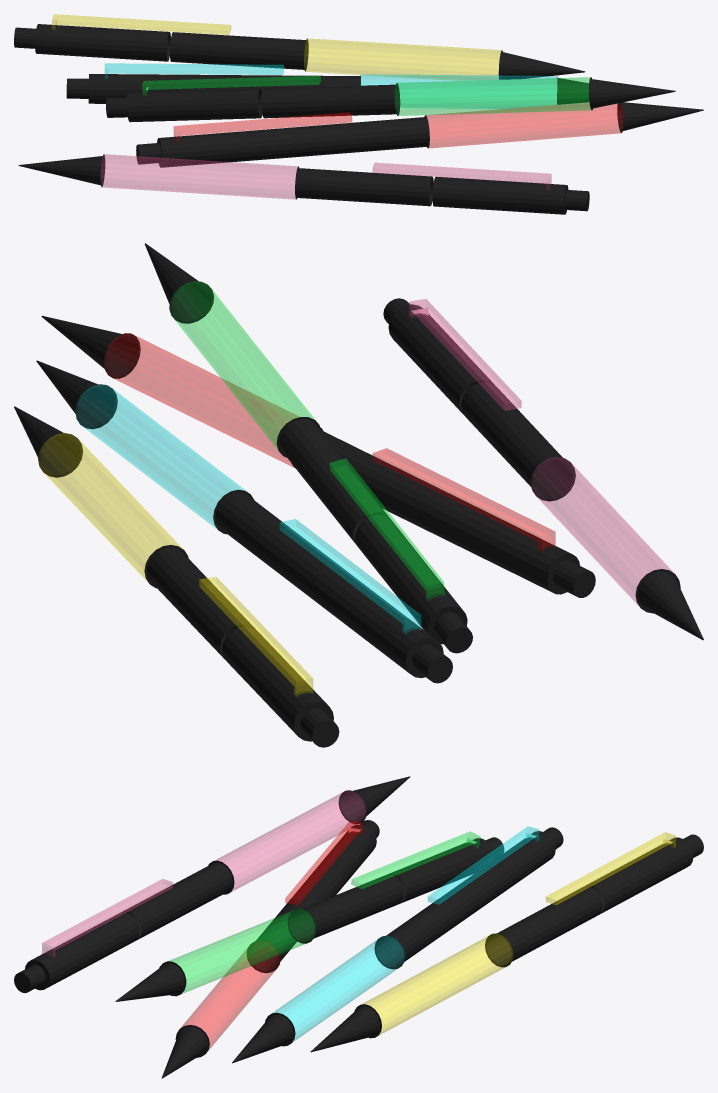
The model's file is Pens.glb.
The picture shows the model from 3 angles, top to bottom: view 1: azimuth 30°, elevation 25°; view 2: azimuth 150°, elevation 25°; view 3: azimuth 270°, elevation 25°; orthographic projection. The views are drawn at different scales.
Parts seen in each view (by area): view 1: Pens; view 2: Pens; view 3: Pens.
Boxes of the visible parts, x1=… form: Pens: x1=14, y1=14, x2=703, y2=214; Pens: x1=14, y1=243, x2=703, y2=747; Pens: x1=14, y1=776, x2=703, y2=1078.
Bounding box in the file's own units: 306732 × 35597 × 296589.
